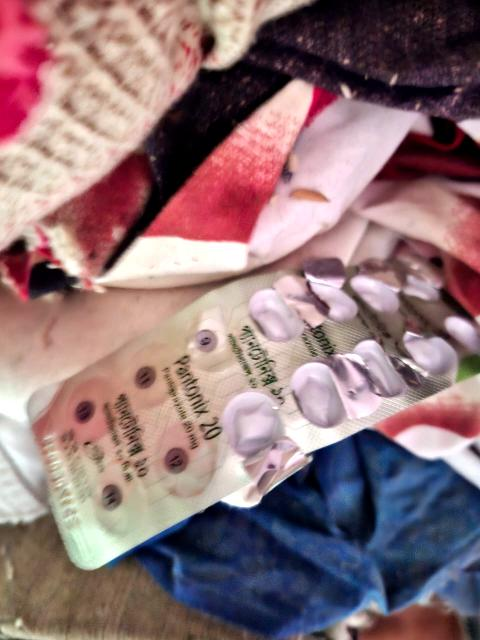medicine: (0, 167, 480, 583)
